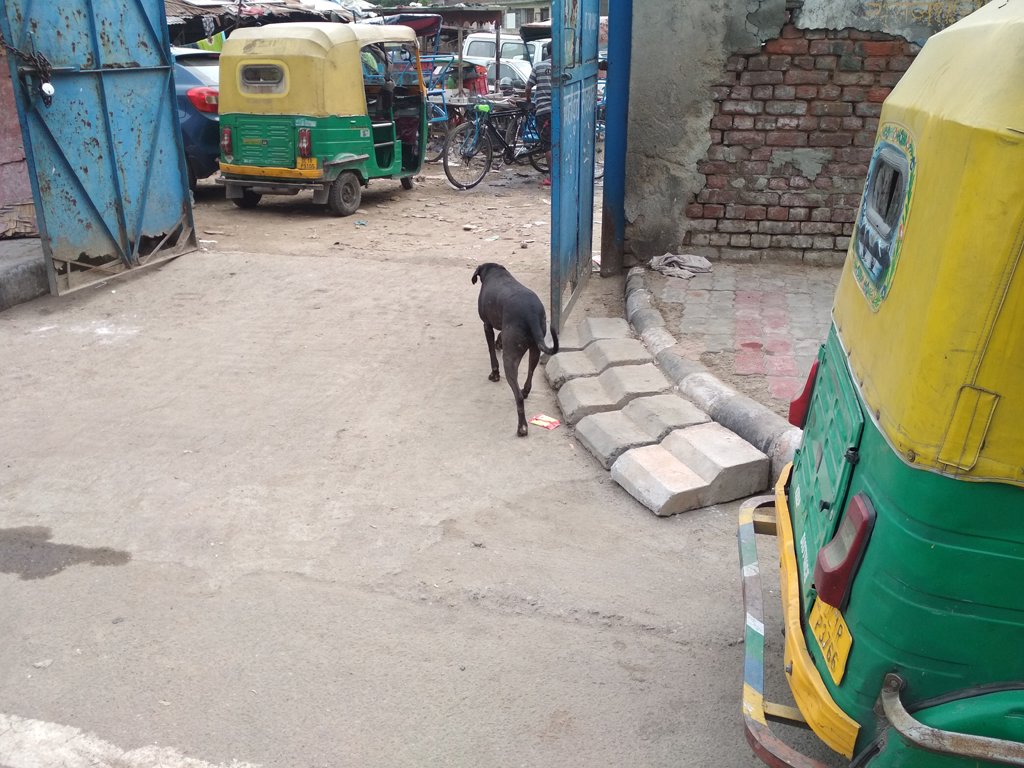dog: (471, 261, 557, 436)
